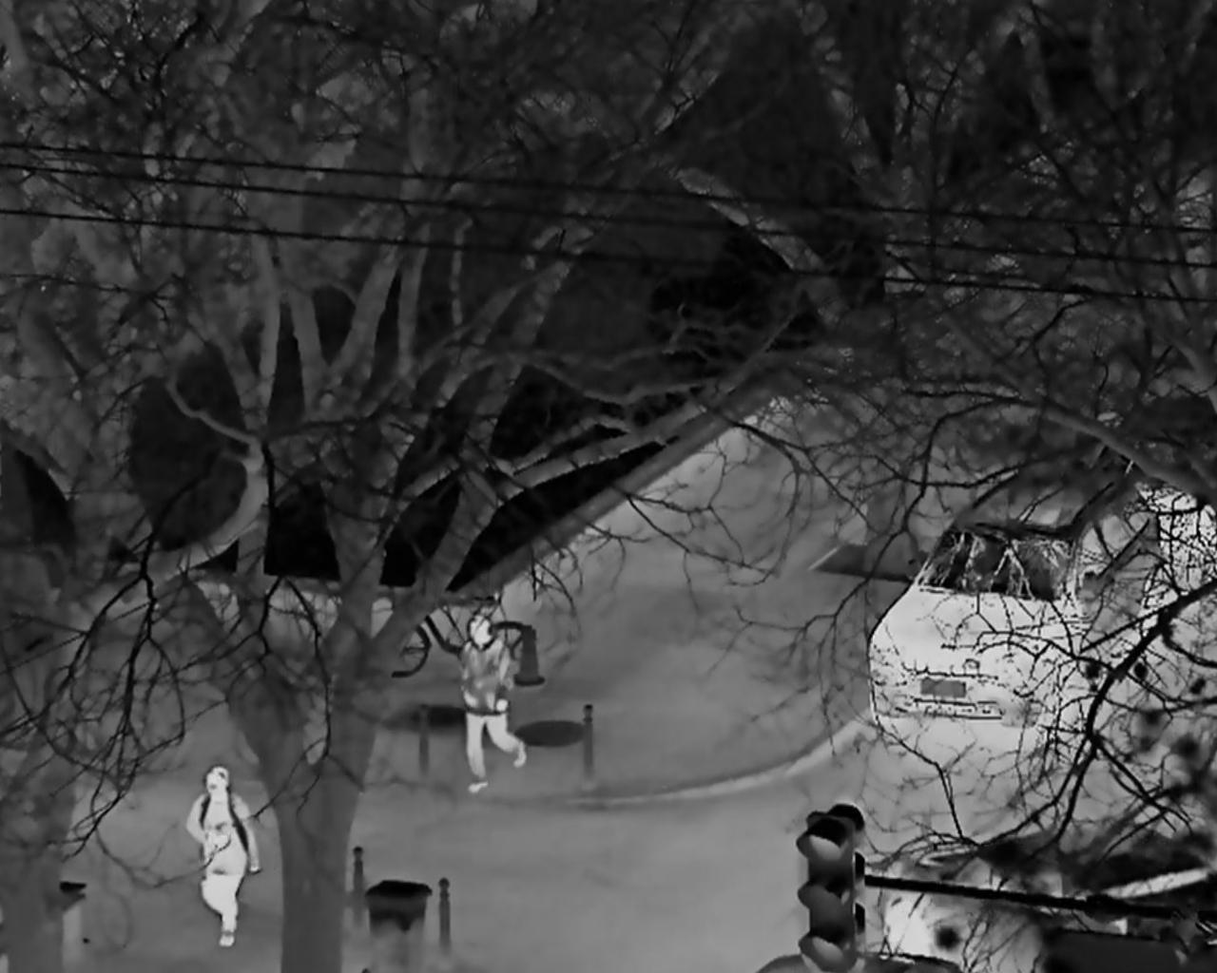person: (184, 766, 259, 948), (459, 614, 527, 792)
